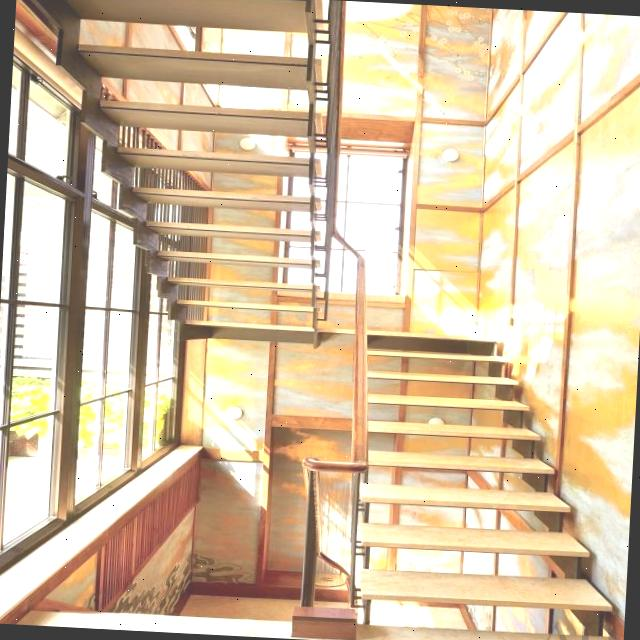stairs: (342, 301, 630, 640), (107, 122, 334, 340)
